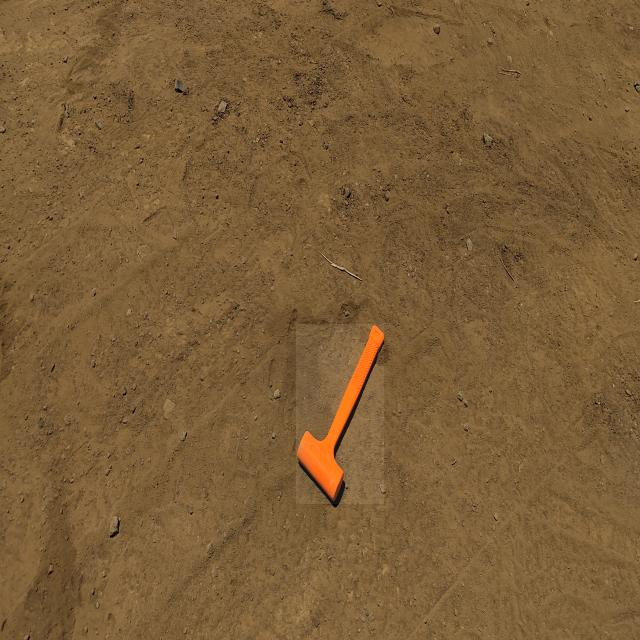Orange_hammer: (296, 324, 384, 504)
